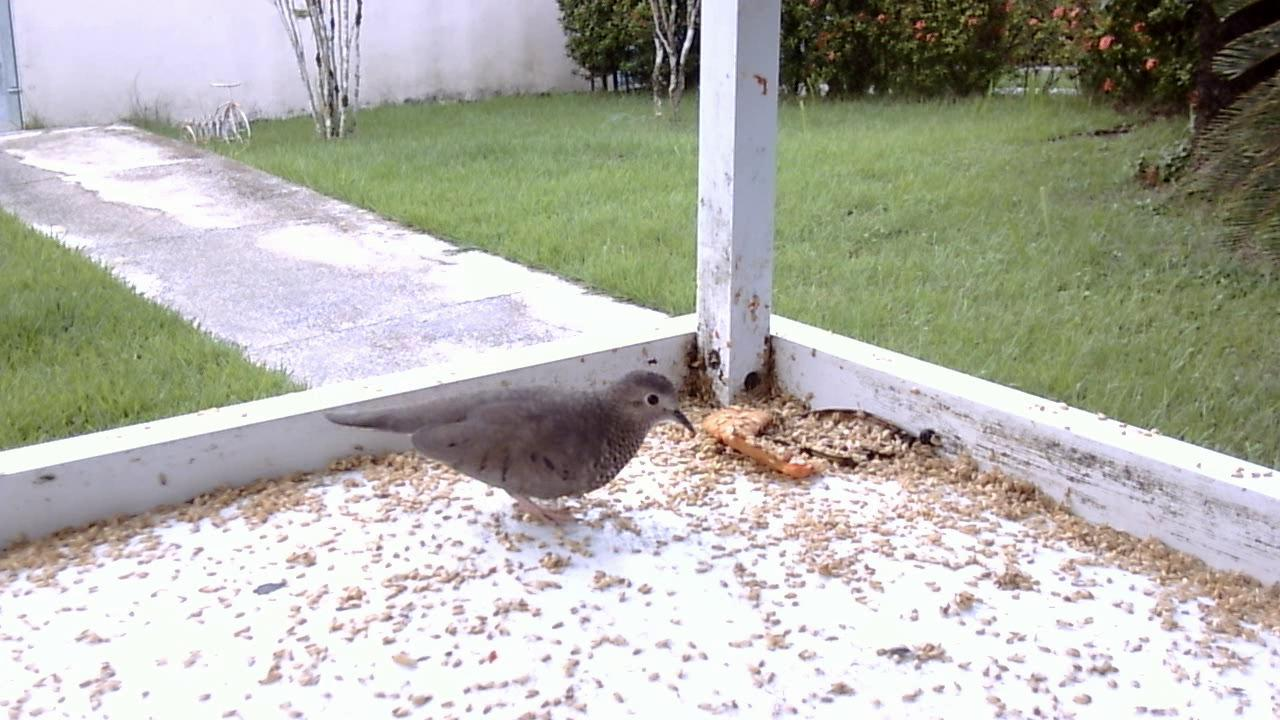rolinha: (321, 354, 707, 543)
